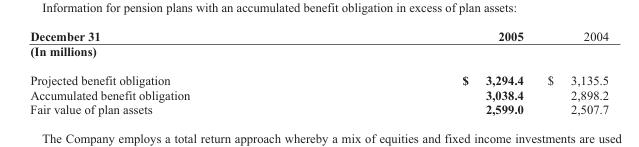table: (29, 28, 608, 116)
table column: (29, 28, 325, 116), (325, 28, 534, 116), (534, 28, 608, 116)
table column header: (29, 28, 608, 43)
table projected row header: (29, 43, 608, 65)
table row: (29, 43, 608, 65), (29, 65, 608, 87), (29, 28, 608, 43), (29, 101, 608, 116), (29, 87, 608, 101)
